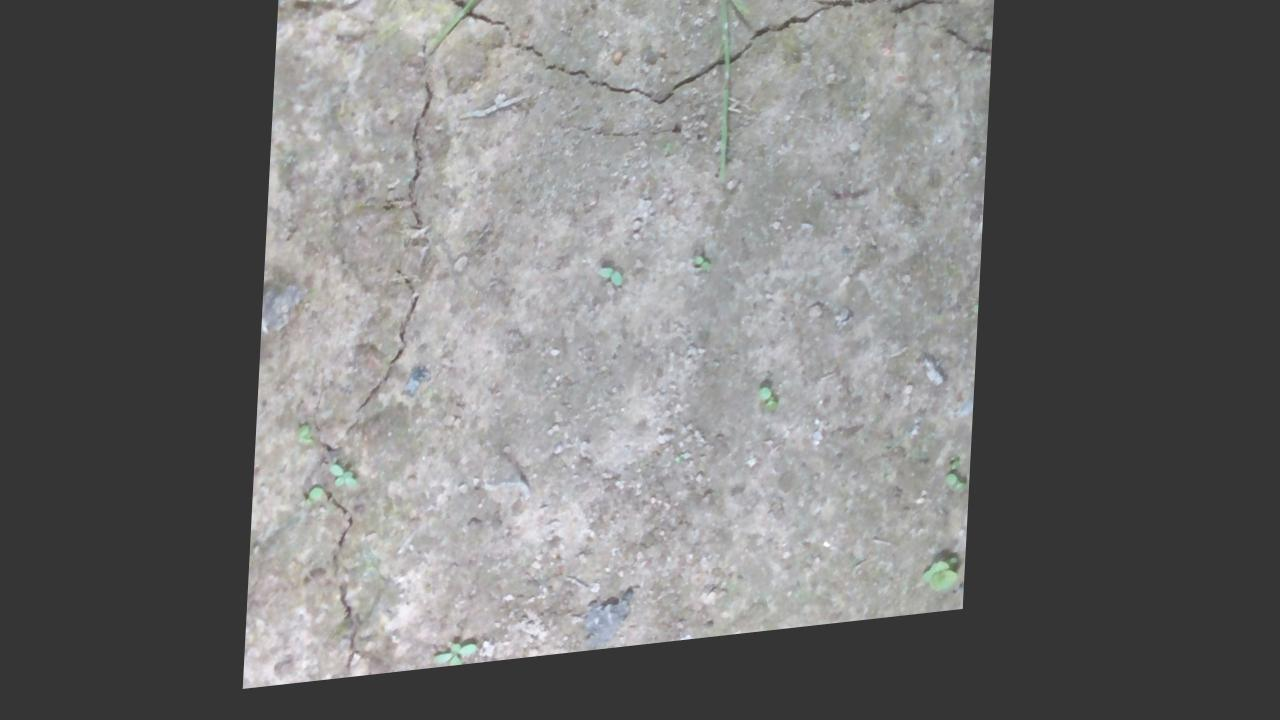weed: (439, 651, 487, 678), (333, 470, 366, 502), (597, 280, 628, 304), (760, 404, 785, 432), (948, 493, 973, 520), (695, 268, 717, 290)
